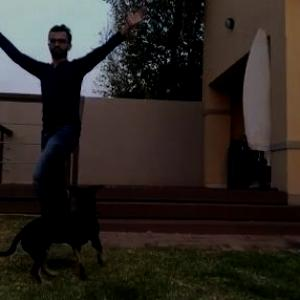takeoff: (0, 11, 155, 246)
